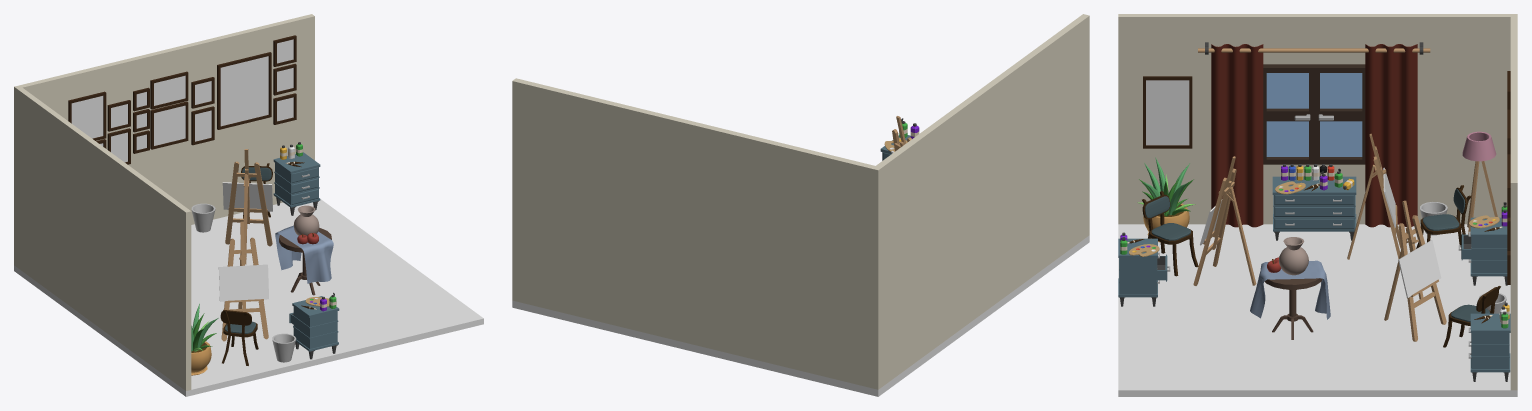
Rendered from Art studio_flipNormal.fbx.
3 renders of one model, left to right at view 1: azimuth 30°, elevation 25°; view 2: azimuth 150°, elevation 25°; view 3: azimuth 270°, elevation 25°, orthographic. The views are drawn at different scales.
Parts seen in each view (by area): view 1: Plane.001, Plane, Cube.038, Cube.044, Cube.009, Cube.048, Cube.001, Plane.004, Cube.045, Cube.020, Sphere, Cone.001 (+2 smaller); view 2: Plane.001, Plane; view 3: Plane, Plane.001, Cube.023, Cube.022, Cube.024, Cube.005, Cube.043, Cube.009, Cube.048, Cube.001, Cube.007, Cube.044 (+13 smaller).
Boxes of the visible parts, box(x1,y1,x2,y2) form: Plane.001: box(14, 14, 314, 390); Plane: box(14, 199, 483, 396); Cube.038: box(68, 35, 296, 164); Cube.044: box(218, 221, 268, 341); Cube.009: box(222, 149, 272, 264); Cube.048: box(289, 292, 339, 359); Cube.001: box(273, 152, 320, 215); Plane.004: box(275, 225, 333, 283); Cube.045: box(220, 309, 258, 365); Cube.020: box(191, 303, 218, 375); Sphere: box(293, 205, 319, 235); Cone.001: box(191, 203, 215, 232); Plane.001: box(512, 14, 1089, 389); Plane: box(512, 235, 1089, 396); Plane: box(1118, 224, 1517, 396); Plane.001: box(1118, 14, 1517, 390); Cube.023: box(1263, 64, 1365, 164); Cube.022: box(1211, 44, 1263, 227); Cube.024: box(1365, 44, 1417, 227); Cube.005: box(1272, 176, 1356, 240); Cube.043: box(1143, 76, 1192, 148); Cube.009: box(1384, 200, 1446, 341); Cube.048: box(1118, 232, 1170, 306); Cube.001: box(1468, 313, 1510, 381); Cube.007: box(1458, 217, 1507, 285); Cube.044: box(1193, 156, 1256, 285).
Bounding box in the file's own units: 1018 × 602 × 1019.
